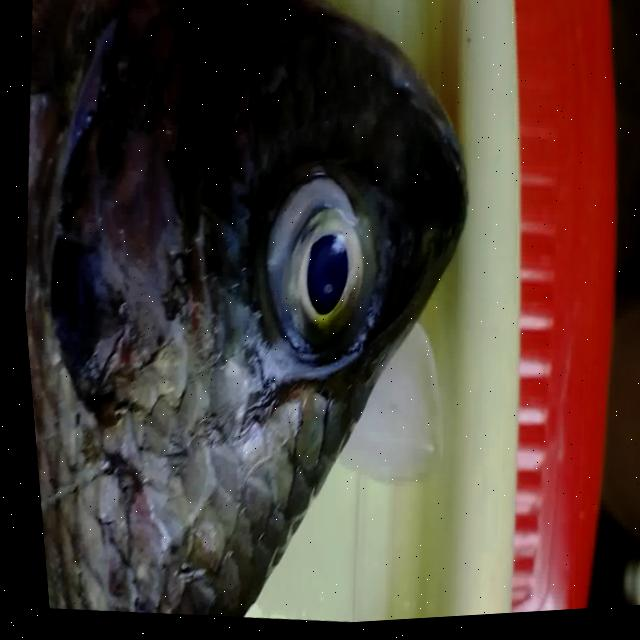Fresh: (223, 127, 395, 398)
